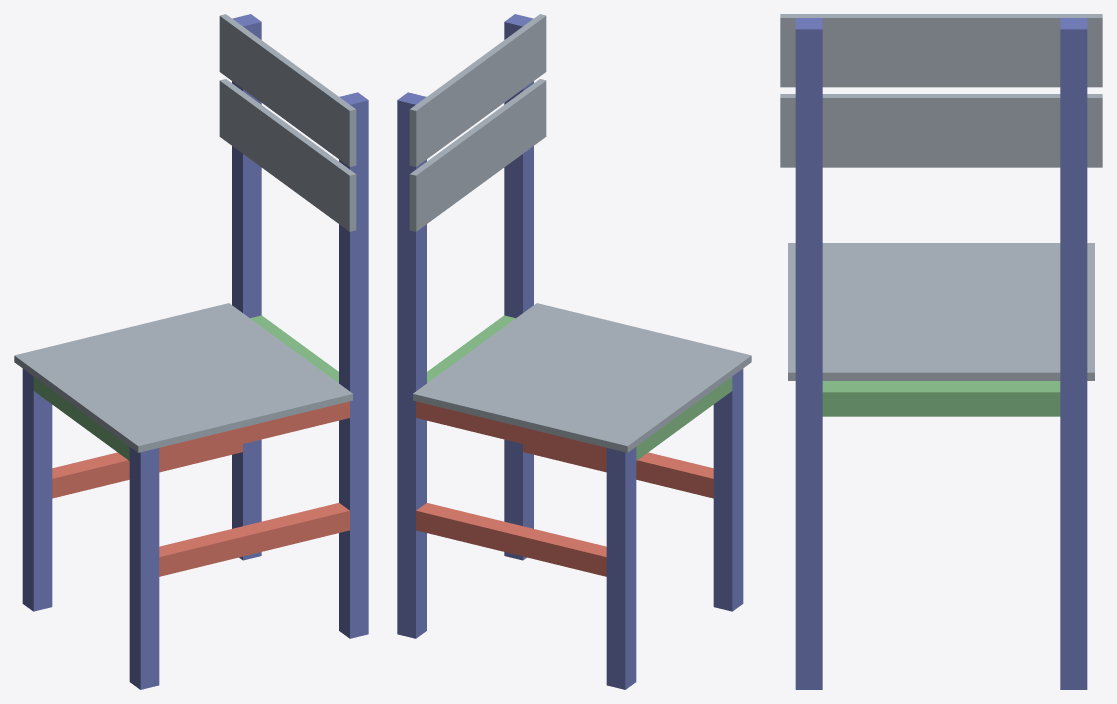
File: chair v7.gltf
3 views of the same model, side by side, from view 1: azimuth 30°, elevation 25°; view 2: azimuth 150°, elevation 25°; view 3: azimuth 270°, elevation 25° (orthographic). The views are drawn at different scales.
Size of the model in its own units: 43.5 by 95 by 42.
